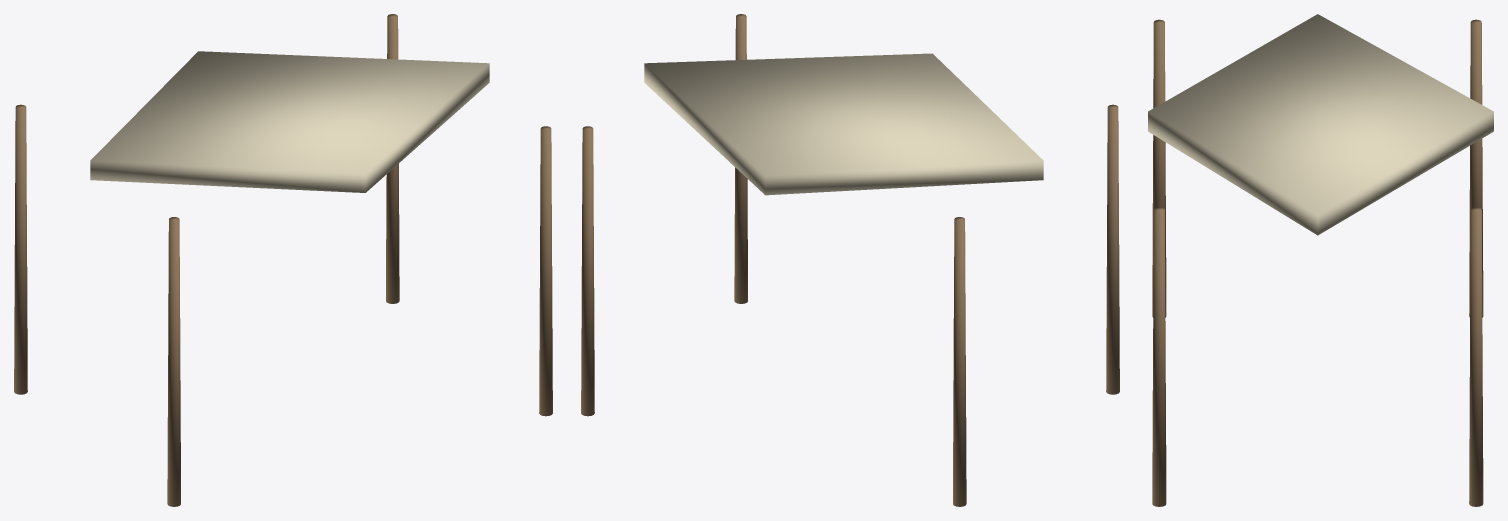
The model's file is SM_Canopy.fbx.
The picture shows the model from 3 angles, left to right: view 1: azimuth 30°, elevation 25°; view 2: azimuth 150°, elevation 25°; view 3: azimuth 270°, elevation 25°; orthographic projection. The views are drawn at different scales.
Parts seen in each view (by area): view 1: SM_Canopy; view 2: SM_Canopy; view 3: SM_Canopy.
Part boxes in pixels (bbox=[...]): SM_Canopy: bbox=[14, 14, 552, 506]; SM_Canopy: bbox=[581, 14, 1119, 506]; SM_Canopy: bbox=[1148, 14, 1493, 506].
Size of the model in its own units: 301 by 218 by 208.
